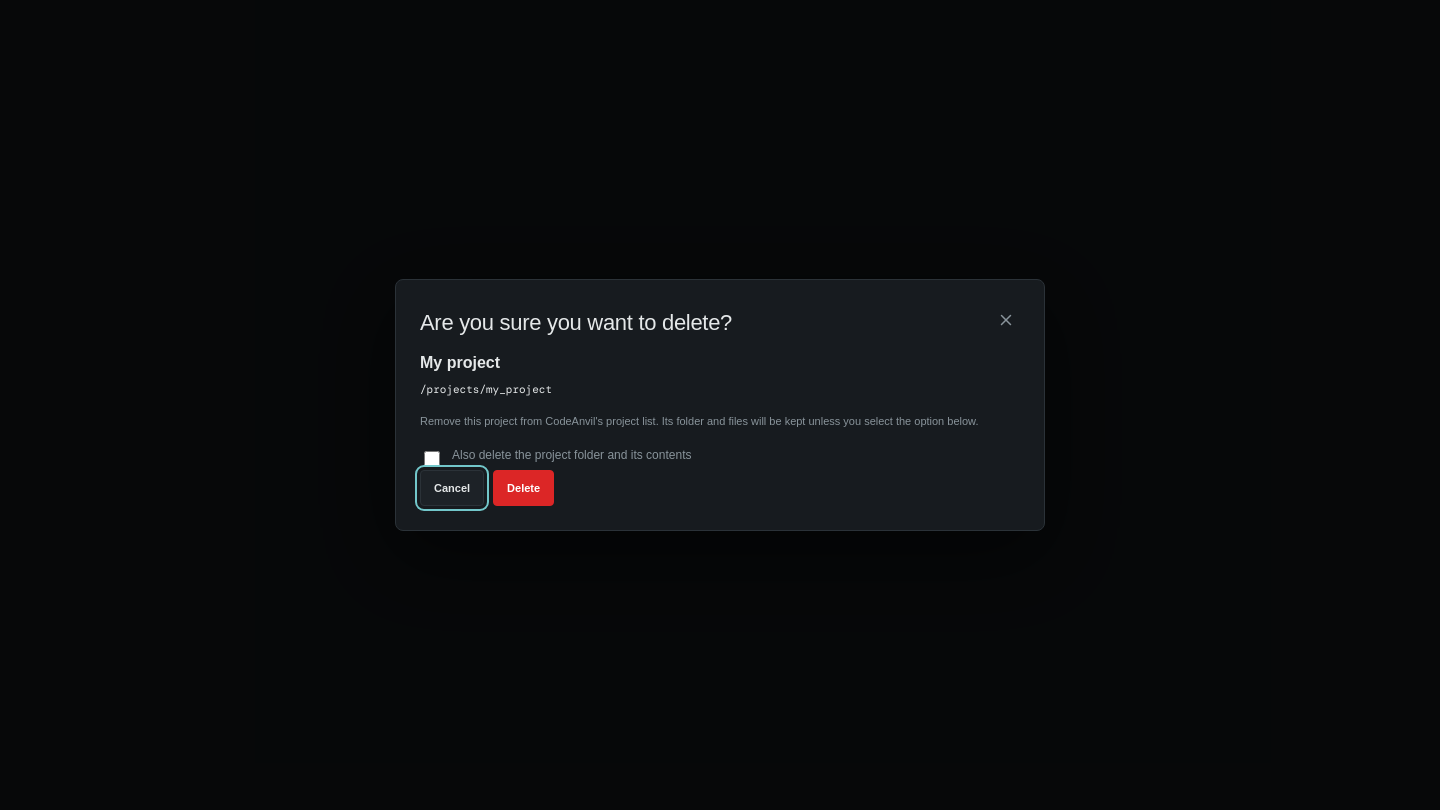
Delete project confirmation › confirms with a click and sends the explicit remove_files=true choice
Later steps or results of the test are not shown.
Click the checkbox at (432, 459), box [424,451,440,467]
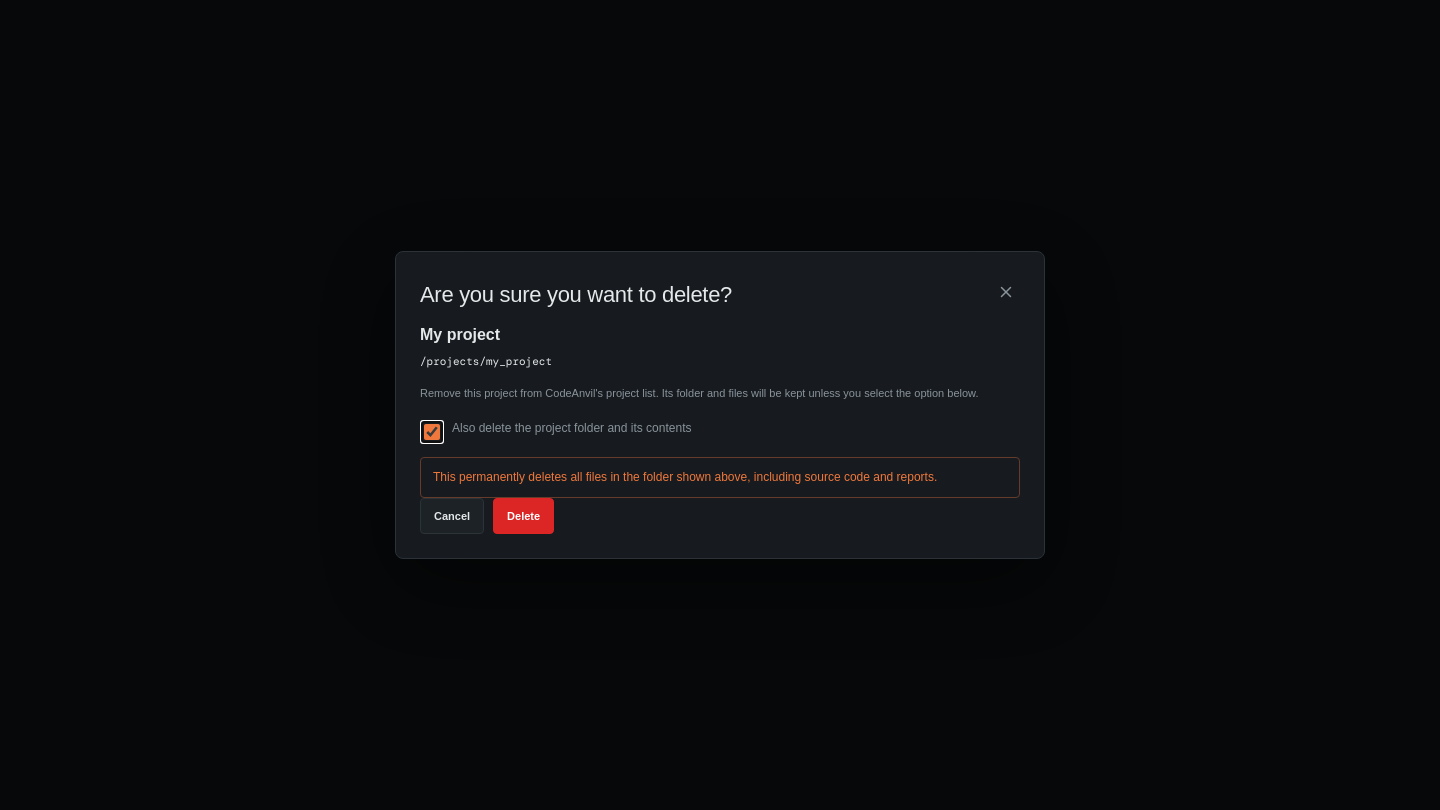
Check: the text "permanently deletes all files" is shown, box [433,470,937,484]
